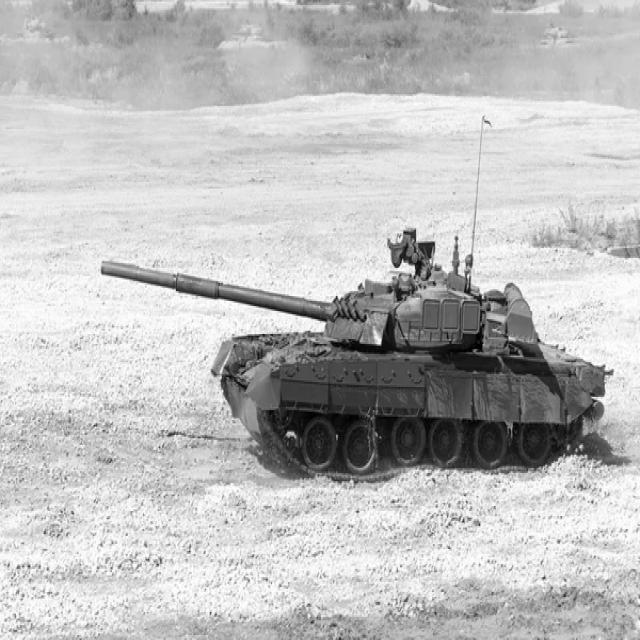Tank: (93, 232, 616, 477)
